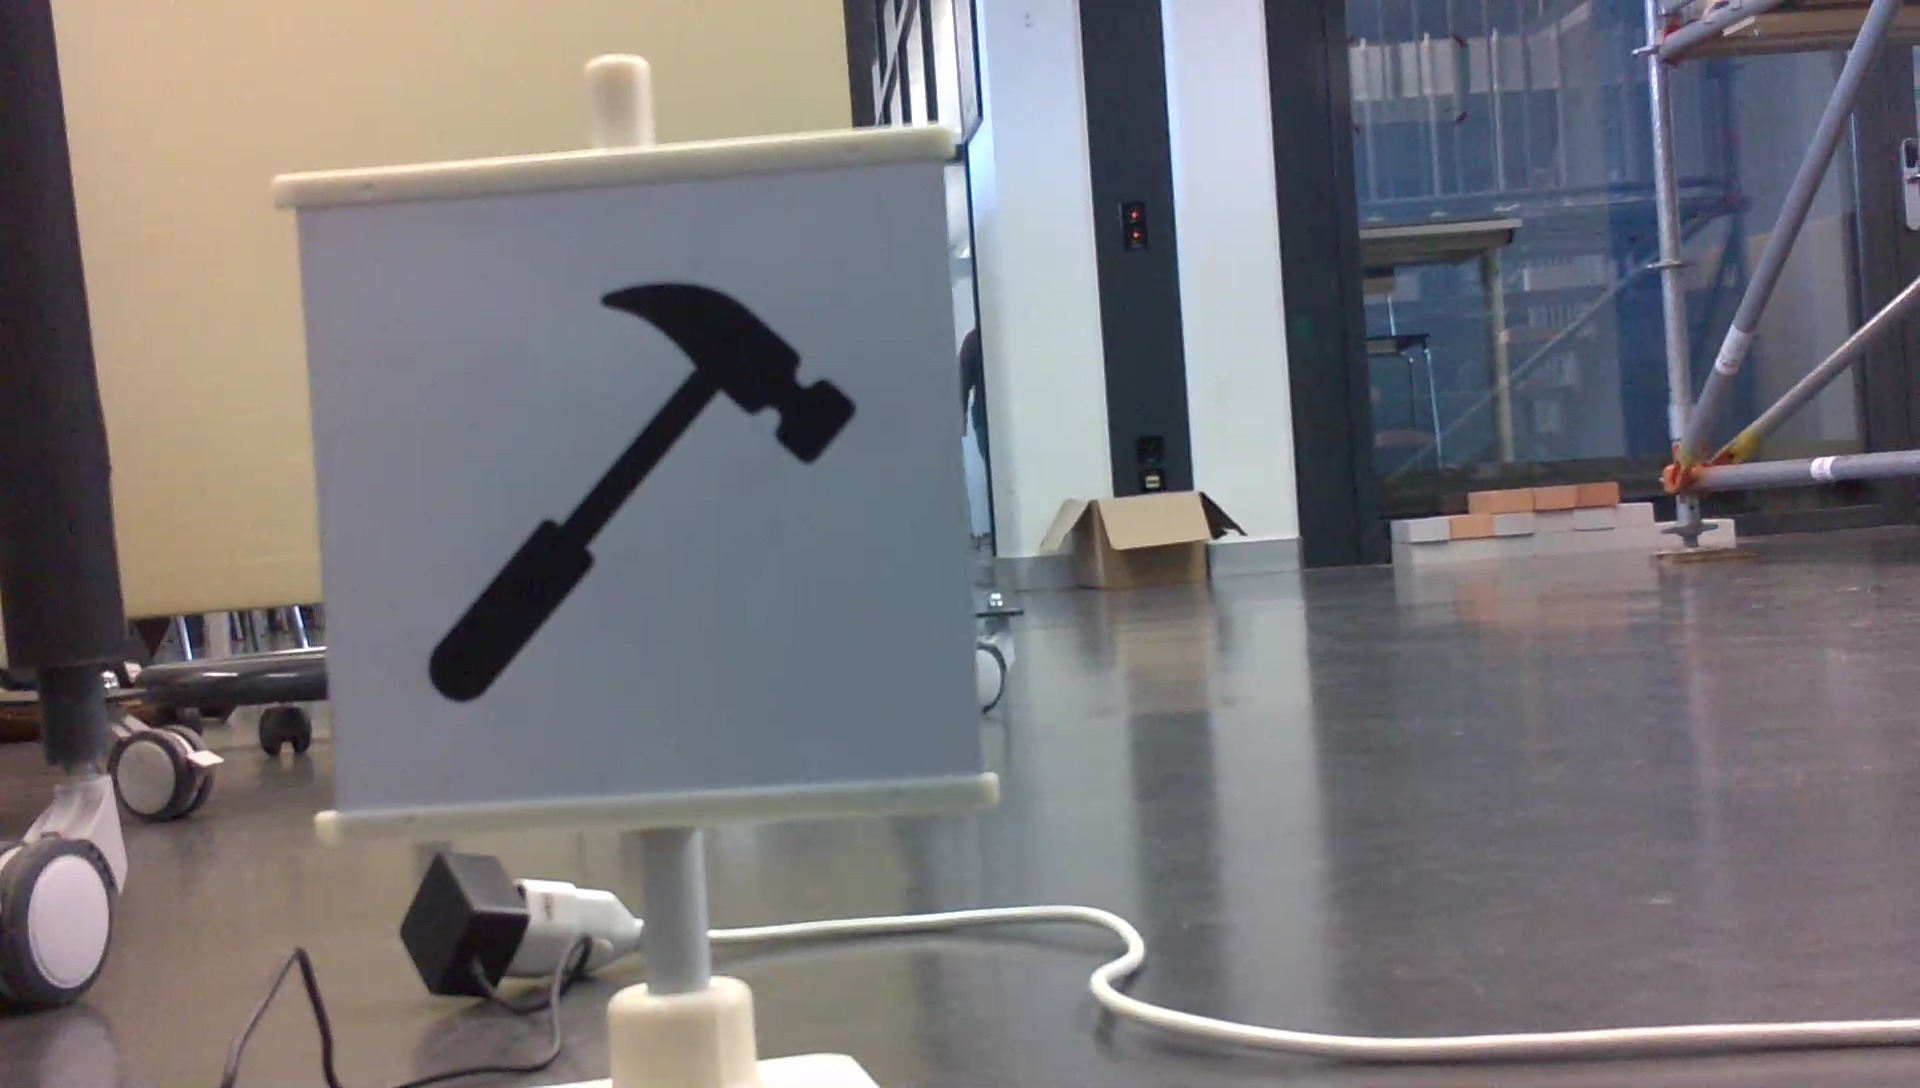hammer: (407, 270, 872, 711)
